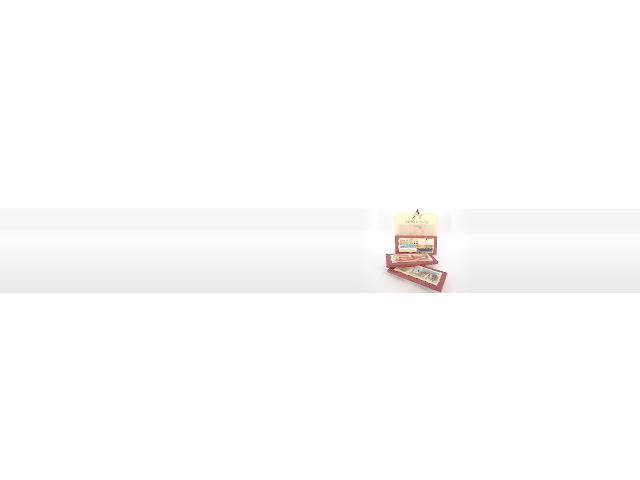chocolate: (384, 261, 459, 296)
